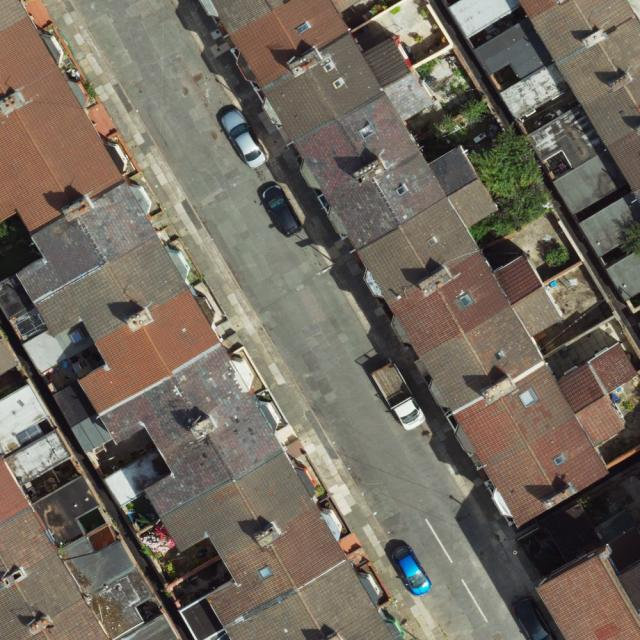roof: (0, 0, 399, 640), (207, 0, 639, 530), (451, 0, 640, 257), (0, 380, 182, 640), (537, 552, 640, 640), (609, 250, 640, 302), (0, 330, 19, 380)
skylight: (517, 387, 540, 410), (357, 123, 378, 141), (69, 326, 87, 345), (393, 183, 411, 199), (458, 292, 475, 308), (552, 452, 569, 468), (258, 565, 275, 581), (331, 76, 347, 90), (321, 59, 337, 72), (426, 235, 441, 248), (297, 22, 311, 35)
